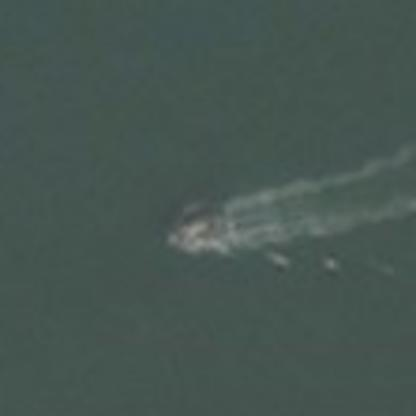ship: (161, 209, 228, 260)
